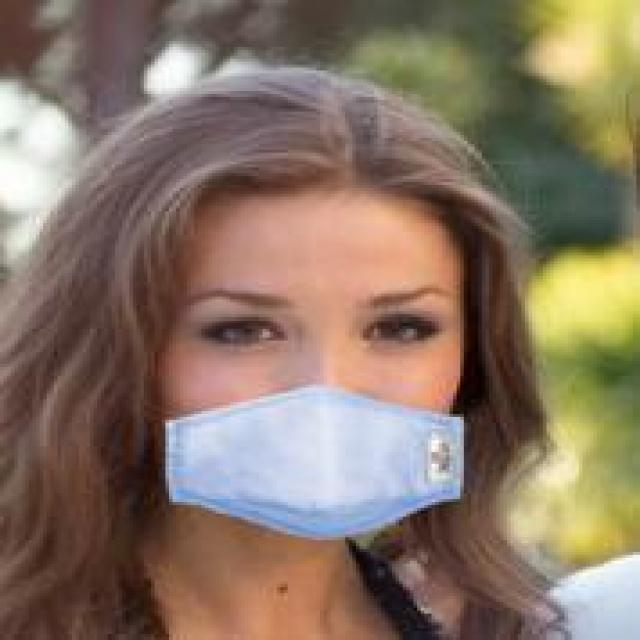mask: (68, 97, 500, 543)
